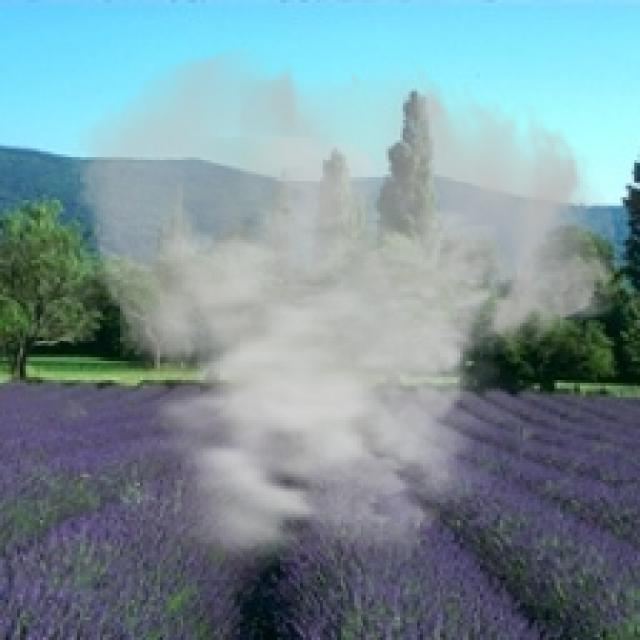Smoke: (66, 46, 623, 592)
